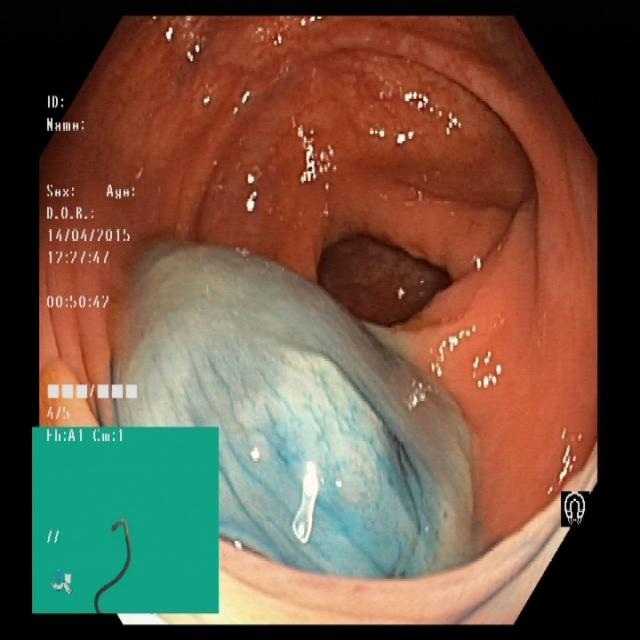diedpolyp: (121, 242, 467, 574)
location: (33, 426, 217, 612)
